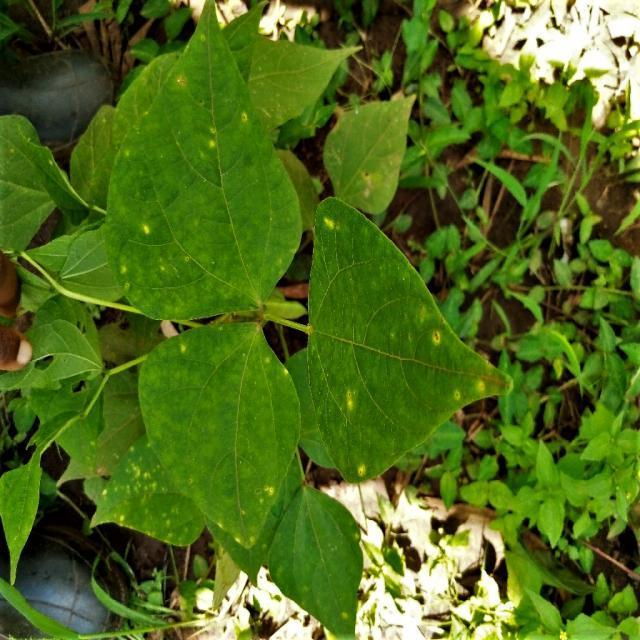embun tepung: (106, 188, 536, 445)
